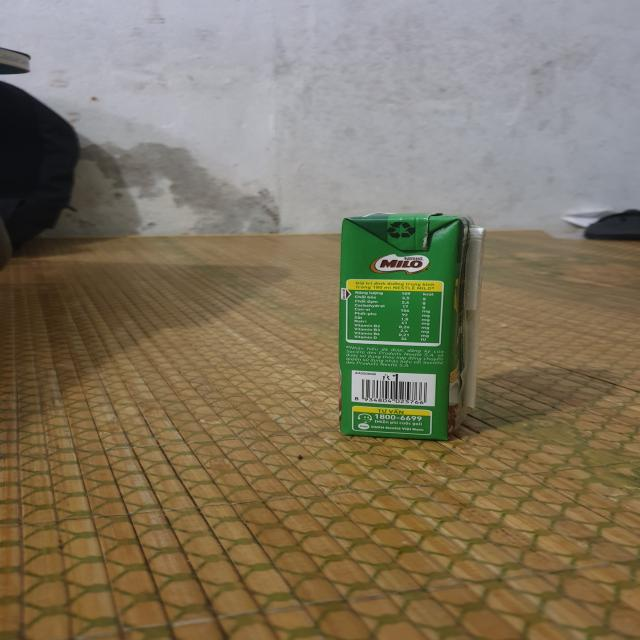Milo: (337, 207, 483, 441)
